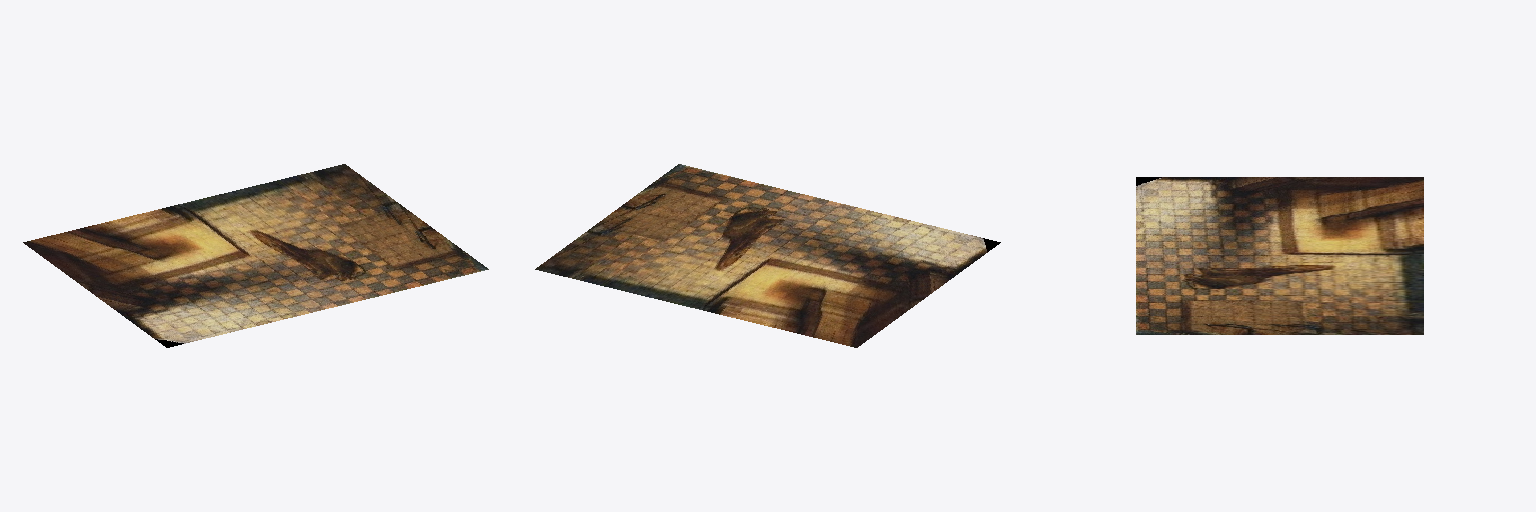
3 views of the same model, side by side, from view 1: azimuth 30°, elevation 25°; view 2: azimuth 150°, elevation 25°; view 3: azimuth 270°, elevation 25° (orthographic).
Parts seen in each view (by area): view 1: Plane; view 2: Plane; view 3: Plane.
Boxes of the visible parts, x1=… form: Plane: x1=23, y1=164, x2=488, y2=347; Plane: x1=535, y1=164, x2=1000, y2=347; Plane: x1=1136, y1=177, x2=1423, y2=334.
Size of the model in its own units: 3.72 by 0 by 2.88.
Materials: 1 (1 with a texture image).